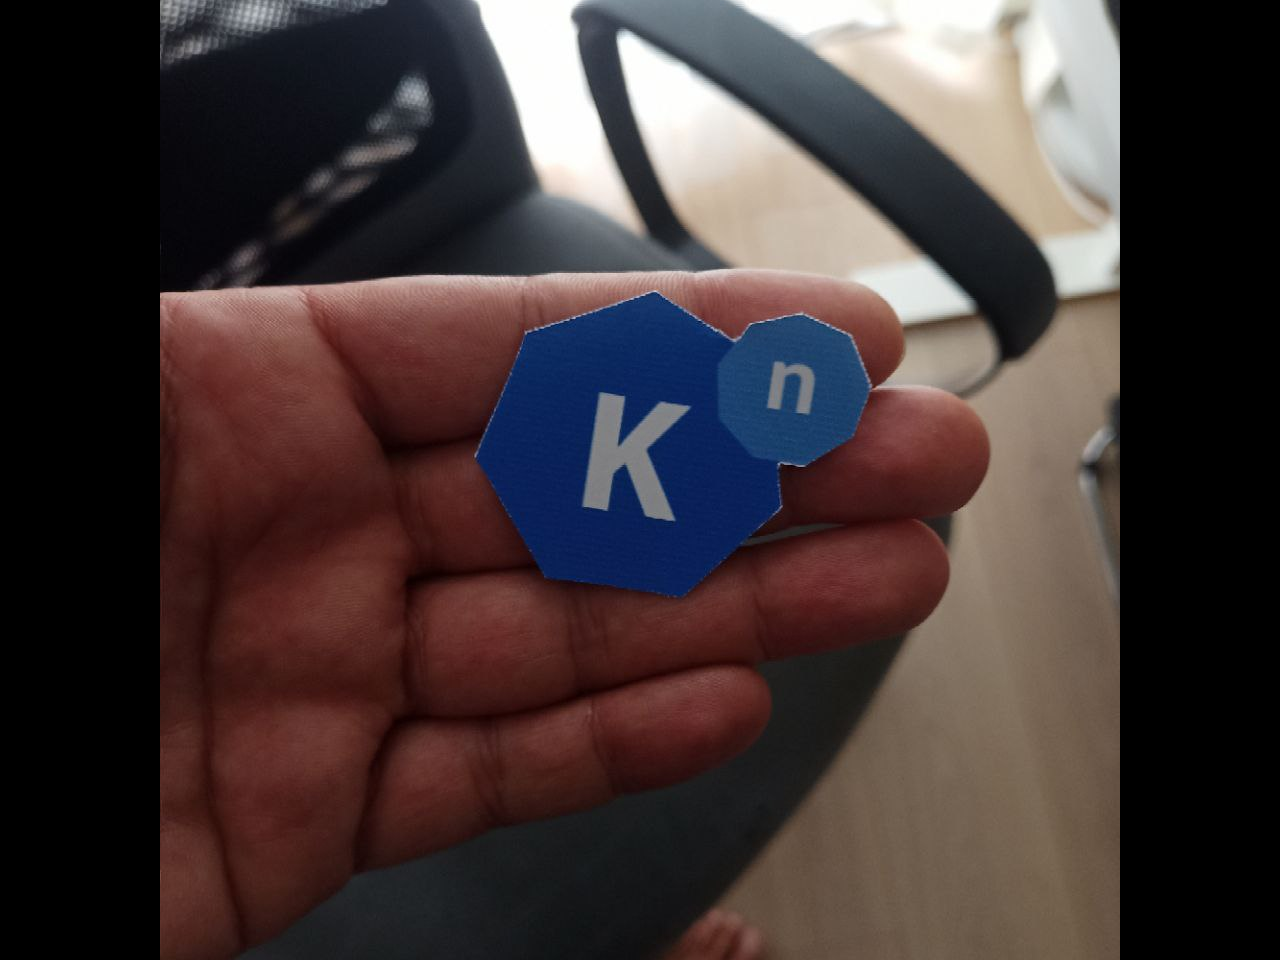knative: (467, 284, 875, 595)
